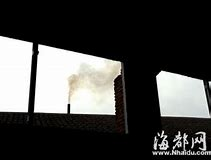smoke: (66, 59, 108, 103)
